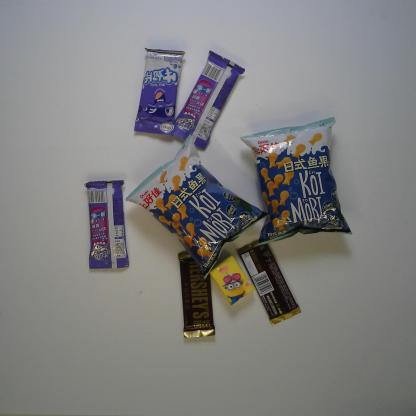Candy: (169, 48, 246, 153), (131, 46, 187, 140), (83, 178, 130, 270)
Chocolate: (237, 238, 302, 329), (177, 250, 217, 340)
Puffed Food: (124, 133, 268, 282), (237, 117, 354, 246)
Tissue: (208, 255, 256, 307)
